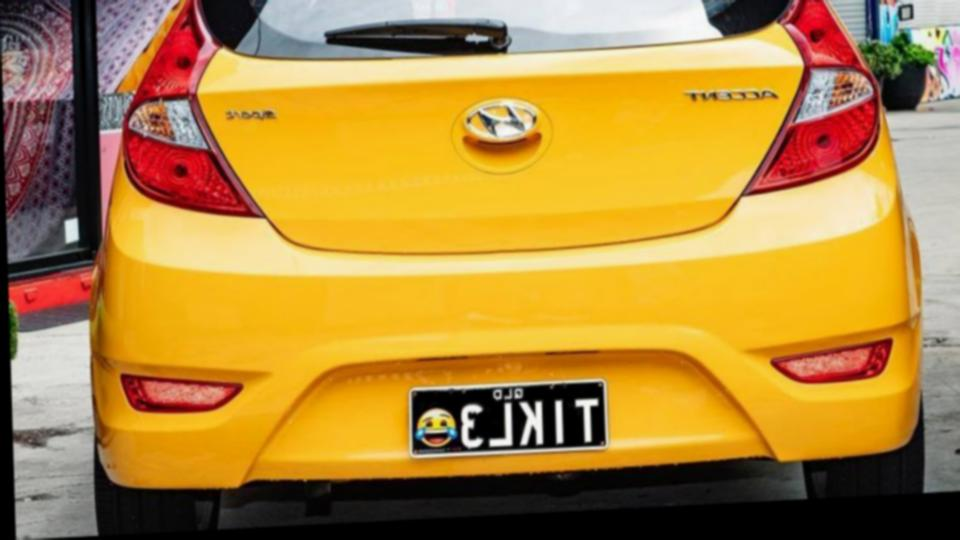License_Plate: (400, 365, 621, 470)
